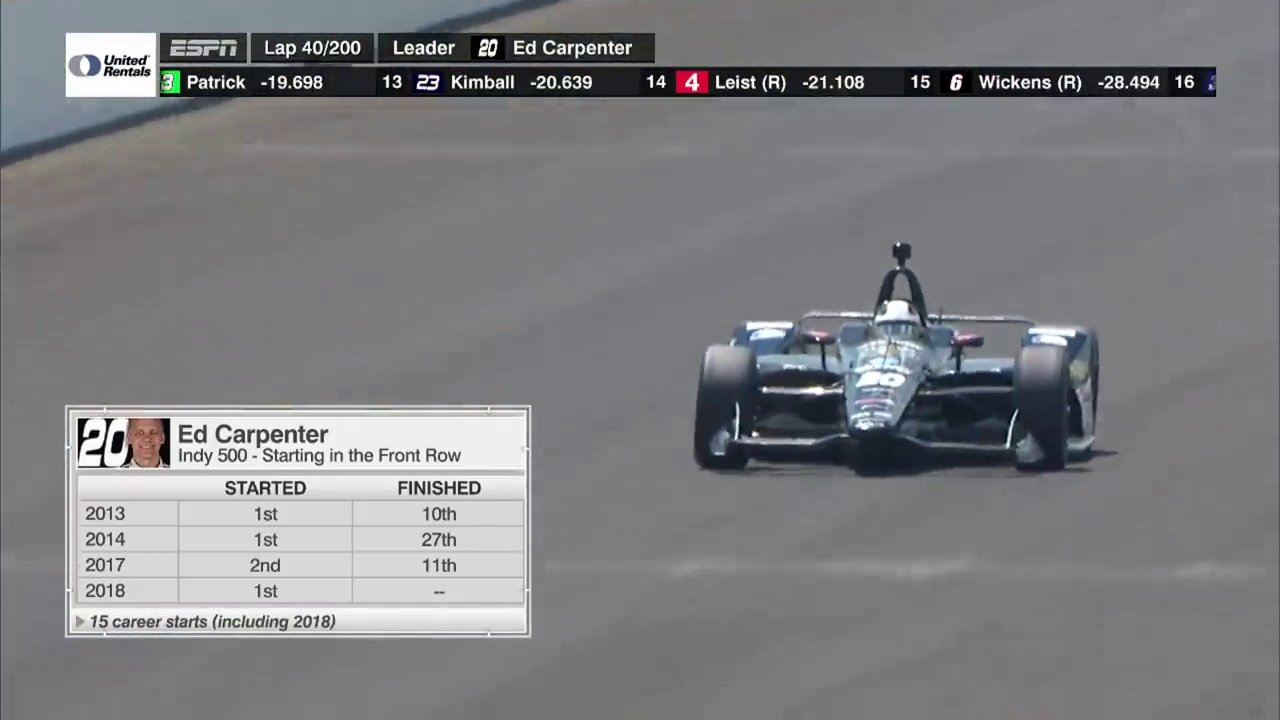car: (681, 231, 1129, 504)
